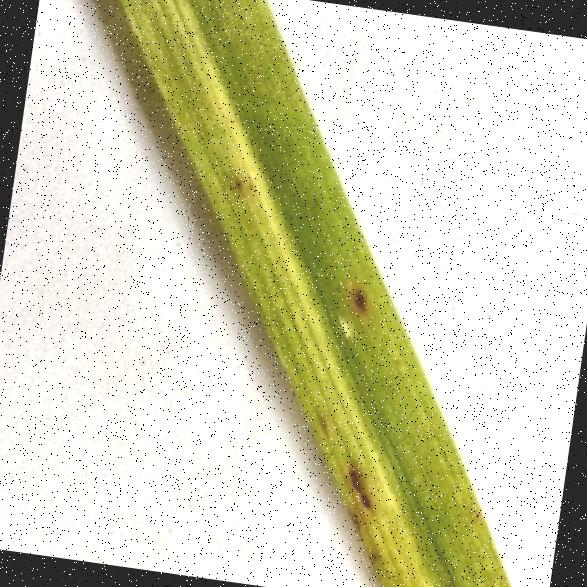Leaf_smut: (301, 434, 534, 587), (202, 155, 404, 328)
